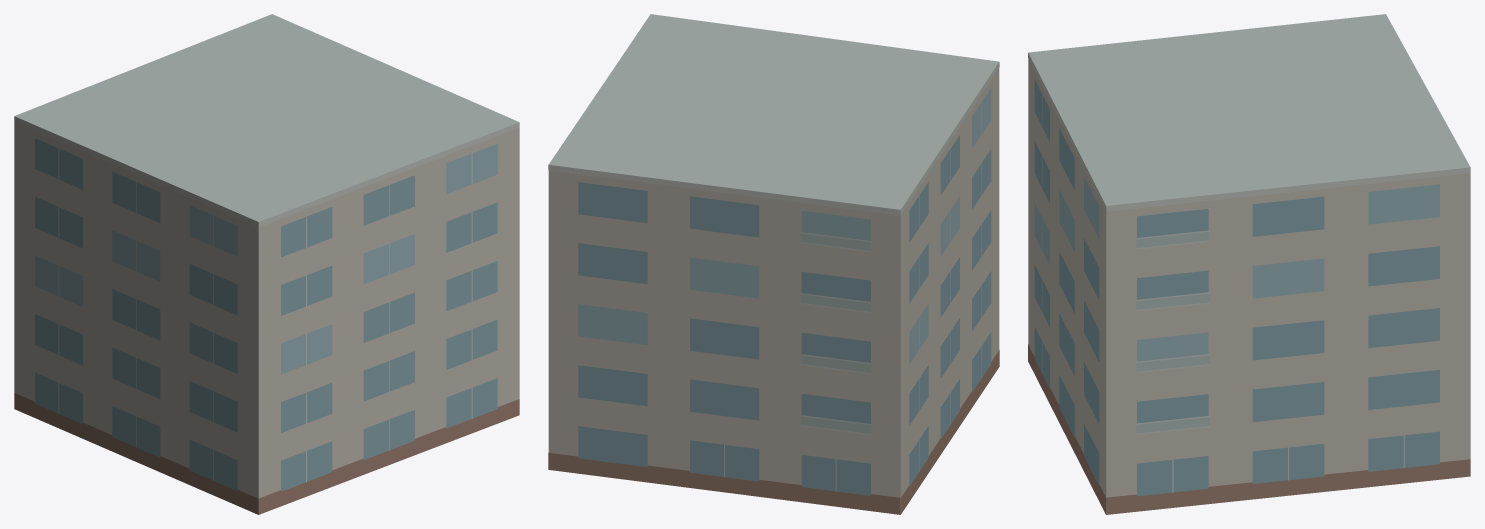
Rendered from survey-upis-32812554.glb.
3 views of the same model, side by side, from view 1: azimuth 30°, elevation 25°; view 2: azimuth 150°, elevation 25°; view 3: azimuth 270°, elevation 25° (orthographic). The views are drawn at different scales.
Visible parts, largest first — view 1: survey-upis-32812554.tmp; view 2: survey-upis-32812554.tmp; view 3: survey-upis-32812554.tmp.
Boxes of the visible parts, x1,y1,x2,y2 form: survey-upis-32812554.tmp: (14,14,519,514); survey-upis-32812554.tmp: (548,14,999,514); survey-upis-32812554.tmp: (1028,14,1470,514).
Bounding box in the file's own units: 17.52 × 13.15 × 17.08.
